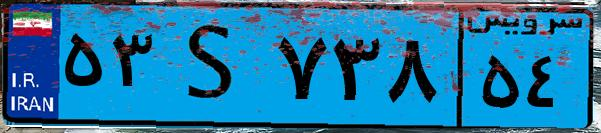3: (330, 28, 385, 110), (110, 28, 158, 98)
4: (525, 38, 570, 115)
5: (57, 26, 110, 100), (475, 38, 525, 113)
7: (270, 28, 330, 110)
8: (385, 28, 445, 110)
S: (158, 12, 270, 120)
